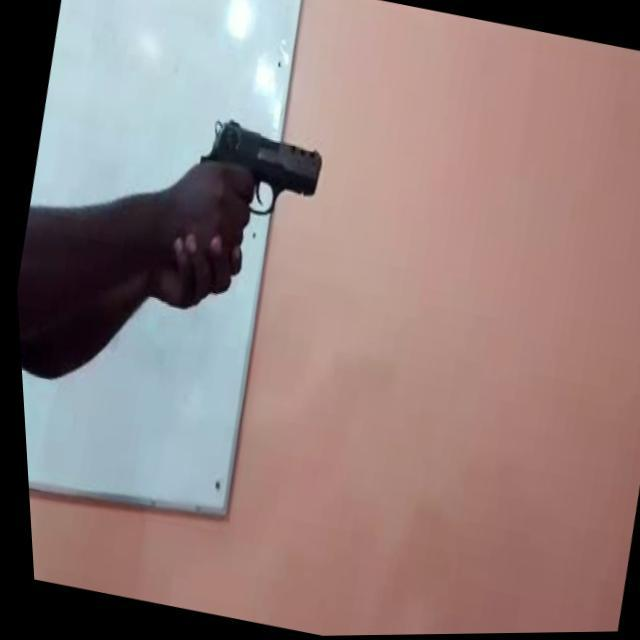weapon: (182, 110, 328, 233)
